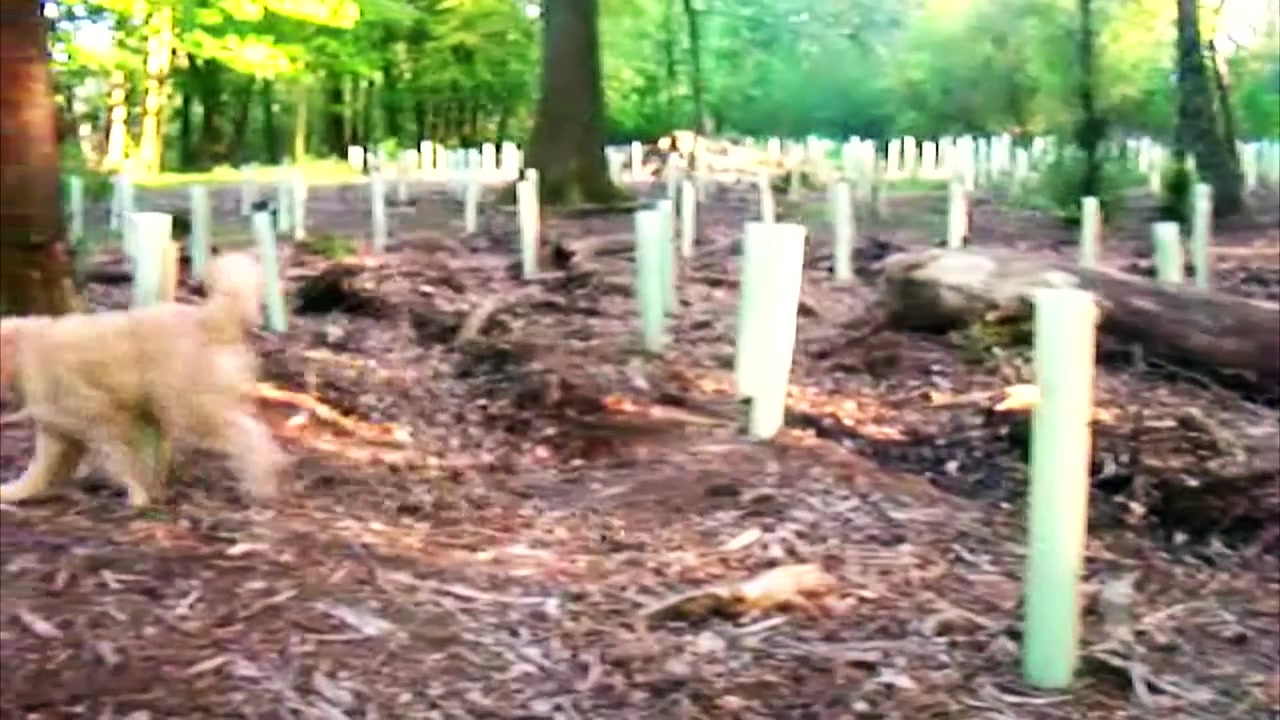dog: (2, 251, 292, 517)
